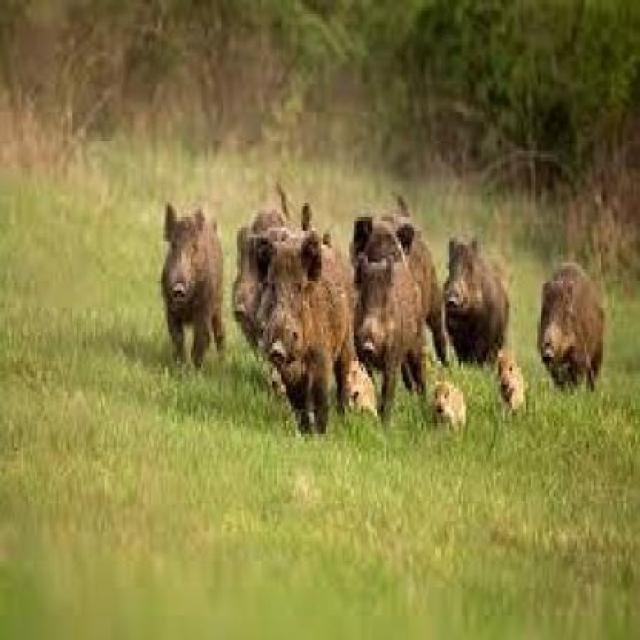wildboar: (254, 222, 358, 438), (228, 172, 322, 378), (345, 247, 438, 439), (350, 188, 448, 370), (532, 258, 612, 408), (158, 202, 228, 369), (439, 230, 515, 368), (492, 338, 530, 424), (256, 350, 301, 421), (336, 356, 381, 418), (432, 375, 472, 443)
